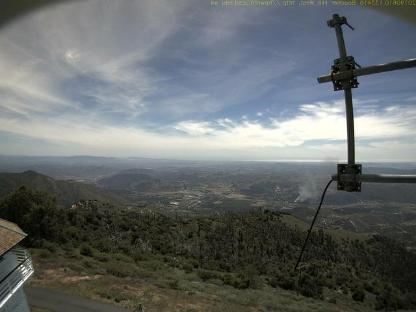smoke: (294, 159, 334, 205)
